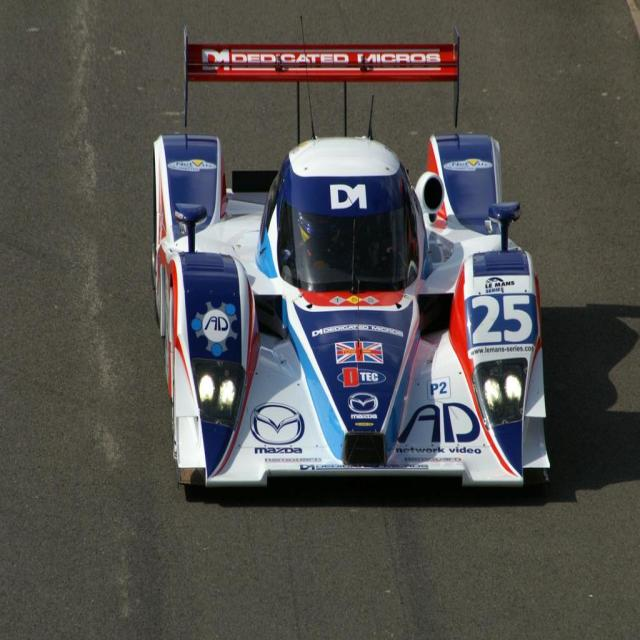car: (152, 14, 549, 485)
